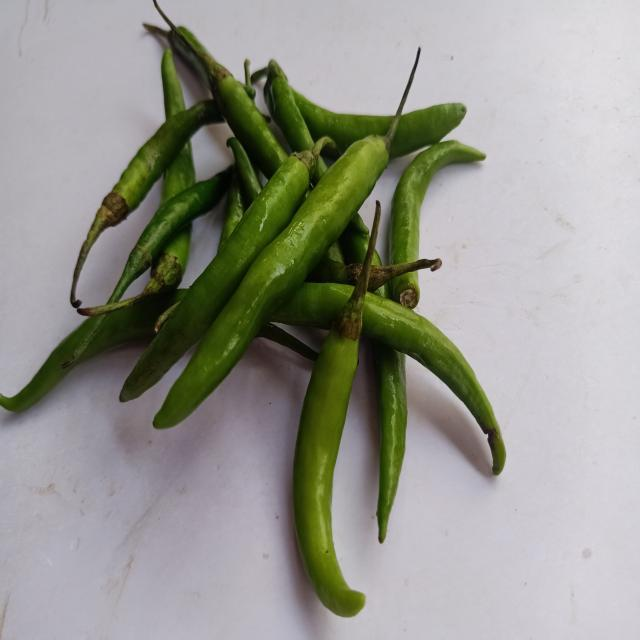Green Chilly: (153, 135, 390, 429), (121, 150, 317, 394), (293, 201, 381, 618), (70, 99, 222, 308), (145, 6, 287, 178)
